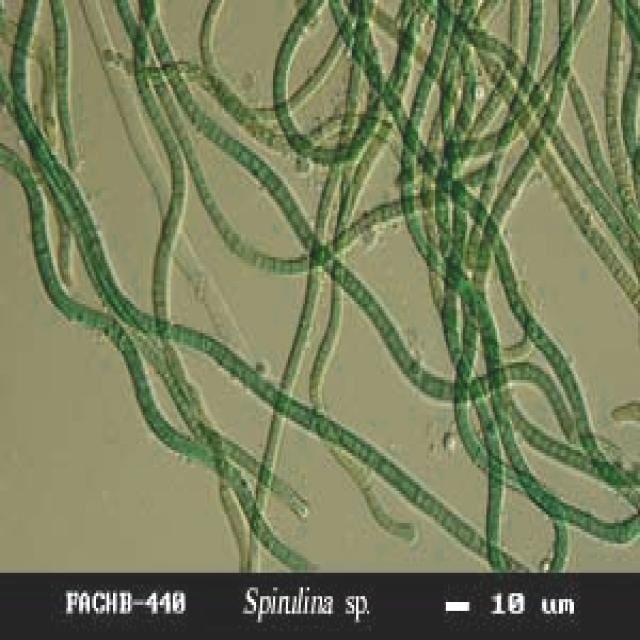Blue Green Algae: (407, 213, 429, 254), (397, 470, 420, 506), (420, 368, 444, 401), (414, 73, 435, 108), (439, 506, 458, 540), (258, 514, 275, 552), (456, 518, 476, 550), (373, 304, 392, 336), (243, 494, 260, 526), (288, 251, 307, 278), (262, 169, 280, 196), (330, 257, 348, 284), (356, 280, 371, 312), (273, 251, 290, 278), (339, 427, 354, 456), (367, 442, 380, 474), (177, 88, 194, 111), (209, 336, 224, 362), (196, 172, 209, 202), (214, 210, 228, 237), (288, 202, 301, 231), (224, 345, 237, 374), (346, 272, 360, 298), (237, 140, 250, 167), (591, 181, 604, 208), (296, 219, 310, 243), (248, 149, 260, 175), (275, 181, 288, 205), (600, 196, 612, 222), (610, 208, 621, 236)
